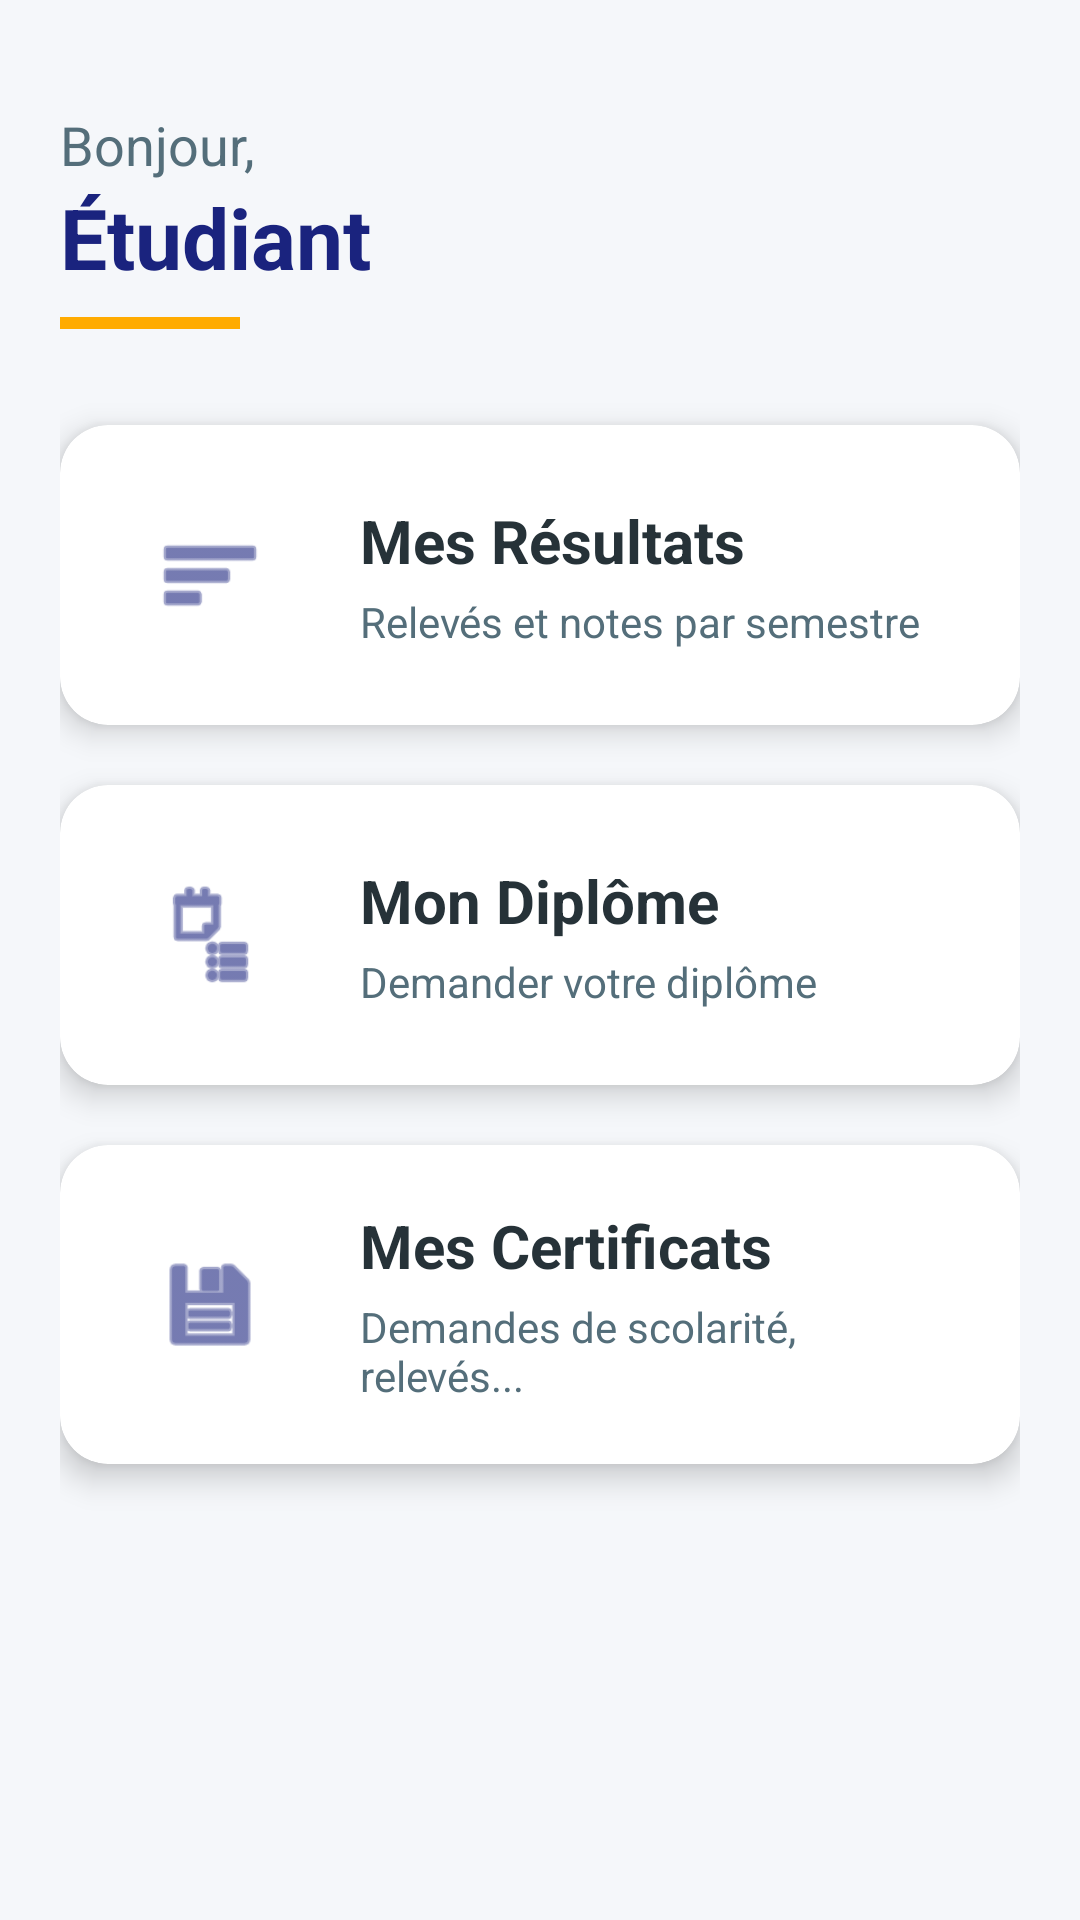

Icon click points for this 1080×1920 phone screenshot, format [x,y]:
agenda: [211,934]
save: [210,1304]
sort by size: [210,575]
